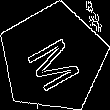M_NE: (20, 26, 86, 91)
